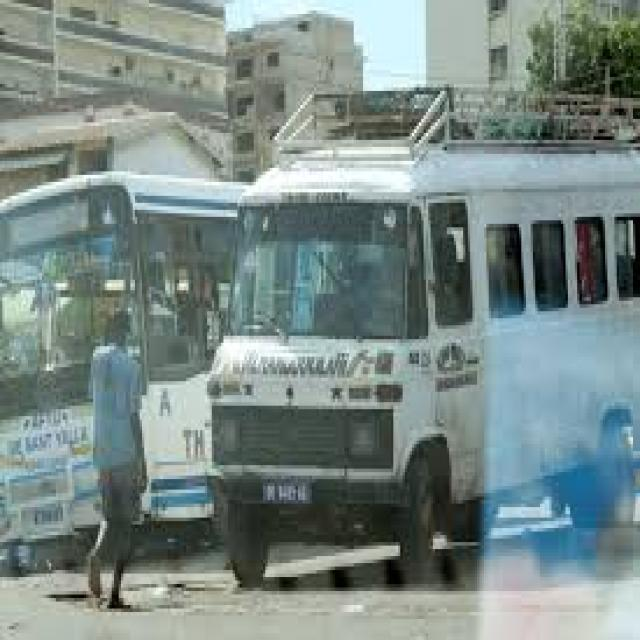bus tata: (2, 172, 244, 557)
car rapide: (211, 146, 640, 587)
